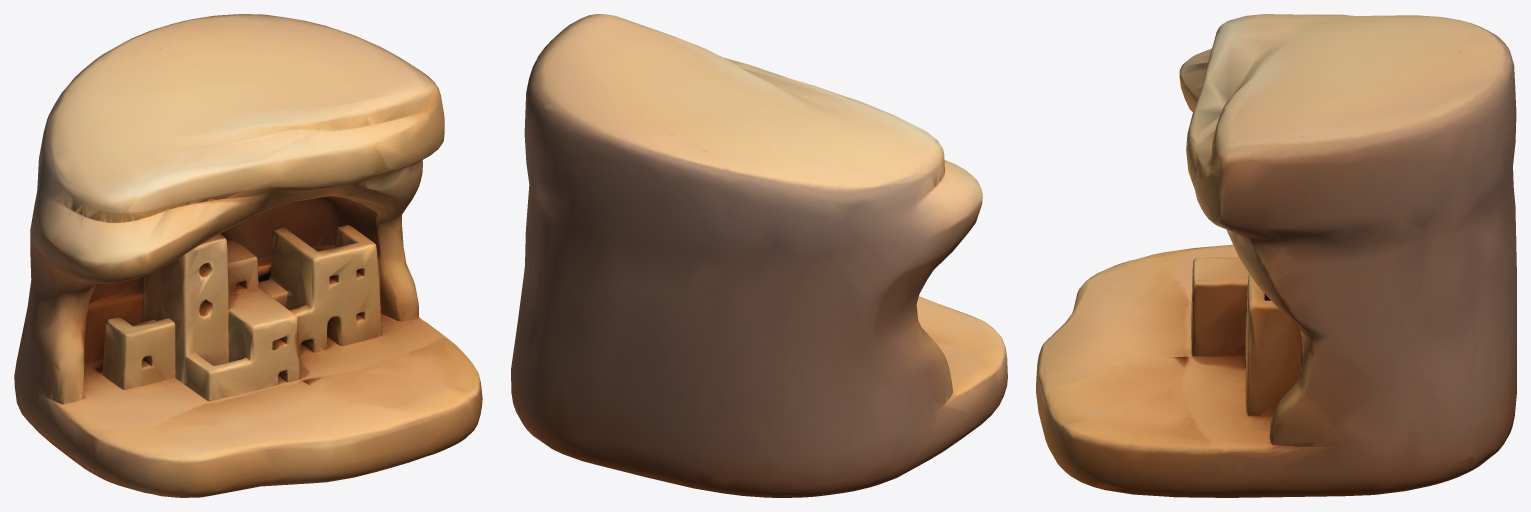
Rendered from pueblo_pbr.glb.
The picture shows the model from 3 angles, left to right: view 1: azimuth 30°, elevation 25°; view 2: azimuth 150°, elevation 25°; view 3: azimuth 270°, elevation 25°; orthographic projection. The views are drawn at different scales.
Visible parts, largest first — view 1: model.021; view 2: model.021; view 3: model.021.
Part boxes in pixels (<box>): model.021: <box>14,14,482,497</box>; model.021: <box>511,14,1007,497</box>; model.021: <box>1036,14,1516,497</box>.
Size of the model in its own units: 1.64 by 1.31 by 1.59.
Materials: 1 (1 with a texture image).
